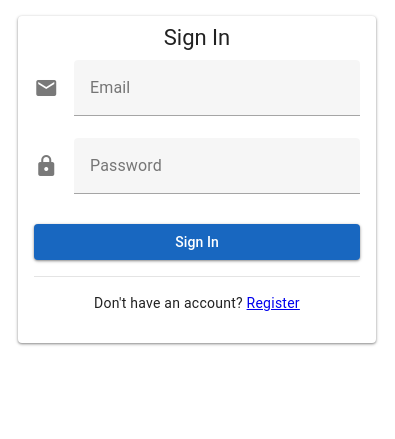
Test: LoginView › shows error message when login fails
Type "john@example.com" into the field labelled "Email" at (217, 88), box [74,60,360,116]
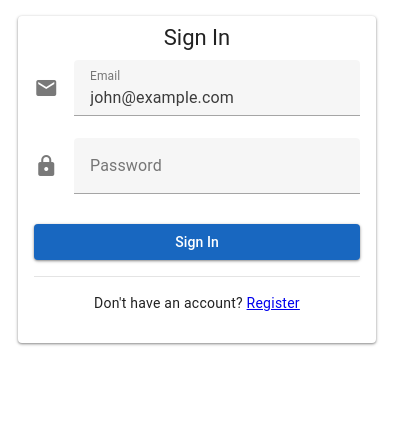
Type "wrong" into the password field labelled "Password" at (217, 166), box [74,138,360,194]
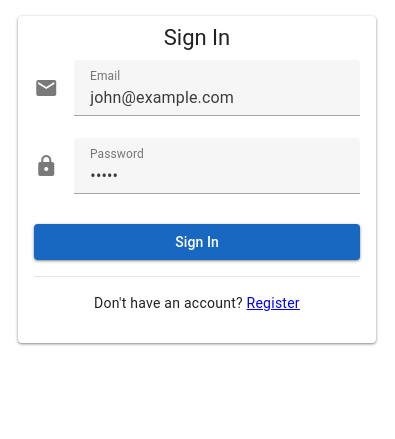
Submit the form, box [34,60,360,260]
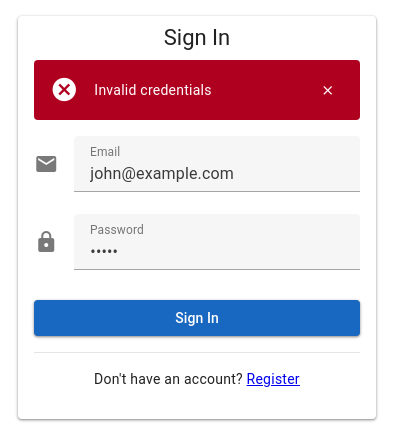
Expected: the text "Invalid credentials" is shown, [94,82,212,98]
